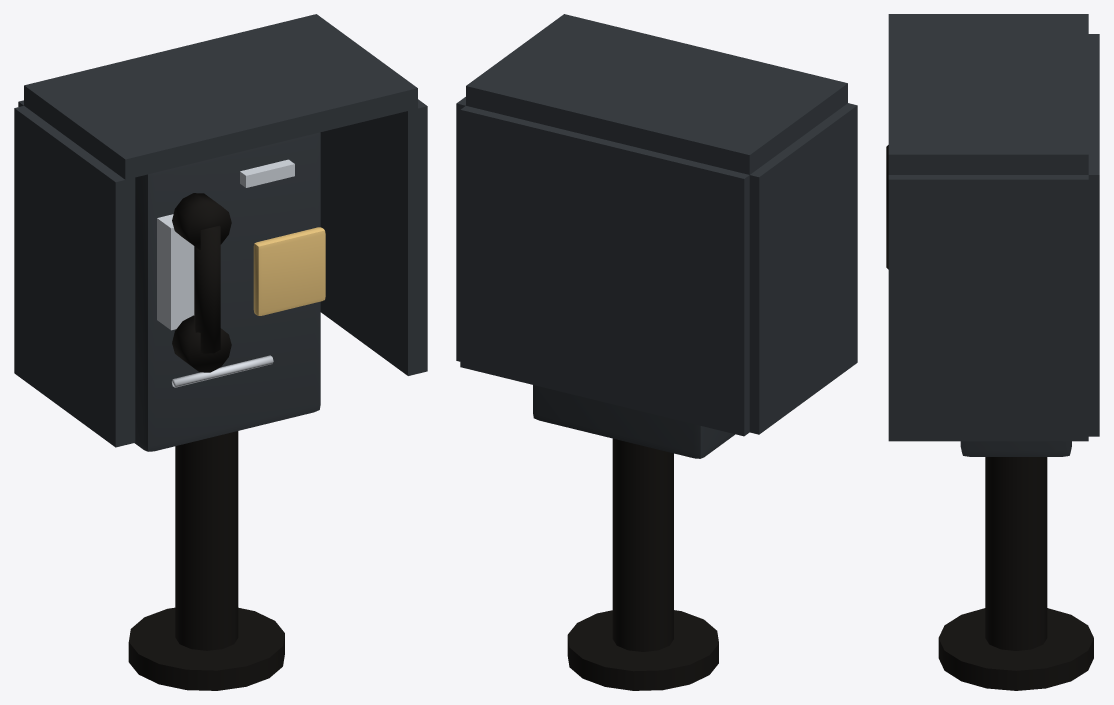
The model's file is payphone.glb.
3 views of the same model, side by side, from view 1: azimuth 30°, elevation 25°; view 2: azimuth 150°, elevation 25°; view 3: azimuth 270°, elevation 25° (orthographic). The views are drawn at different scales.
Parts seen in each view (by area): view 1: Body, Chrome, LampFace; view 2: Body; view 3: Body, Chrome.
Boxes of the visible parts, x1,y1,x2,y2 form: Body: (14, 14, 427, 690); Chrome: (157, 159, 294, 387); LampFace: (253, 227, 325, 315); Body: (456, 14, 857, 690); Body: (888, 14, 1099, 690); Chrome: (886, 145, 888, 269).
Size of the model in its own units: 0.32 by 0.57 by 0.192.
